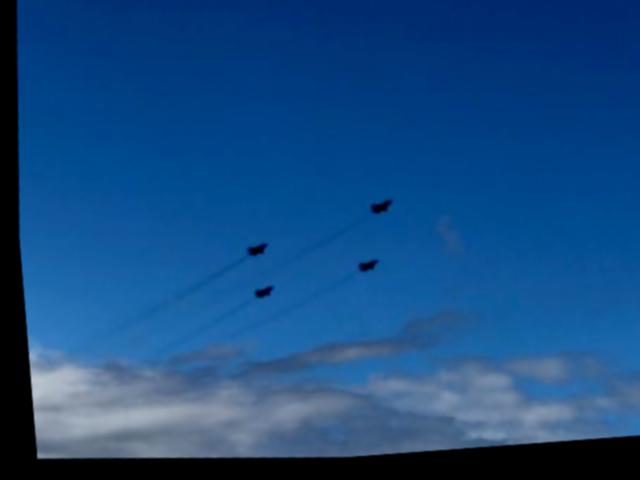flying wing: (248, 286, 282, 311), (240, 233, 266, 264), (356, 259, 377, 285), (359, 200, 393, 216)
